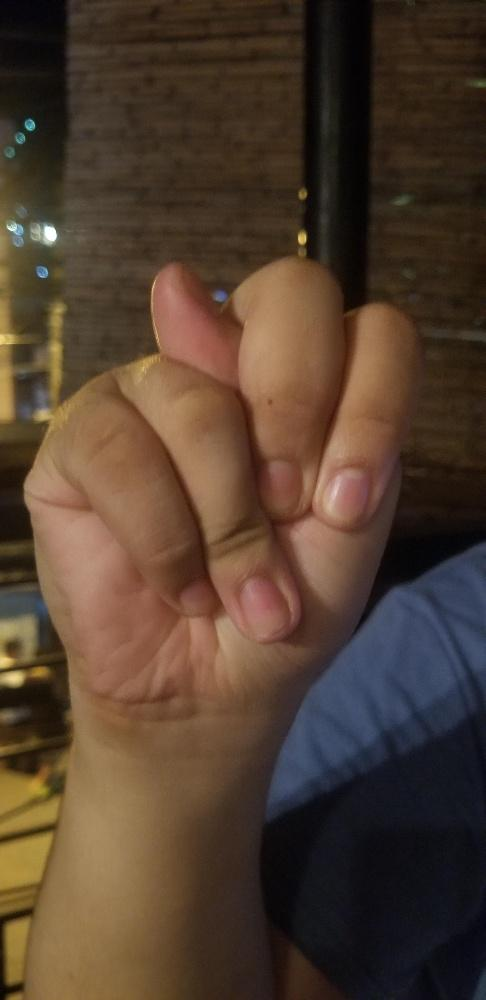n: (21, 252, 428, 685)
